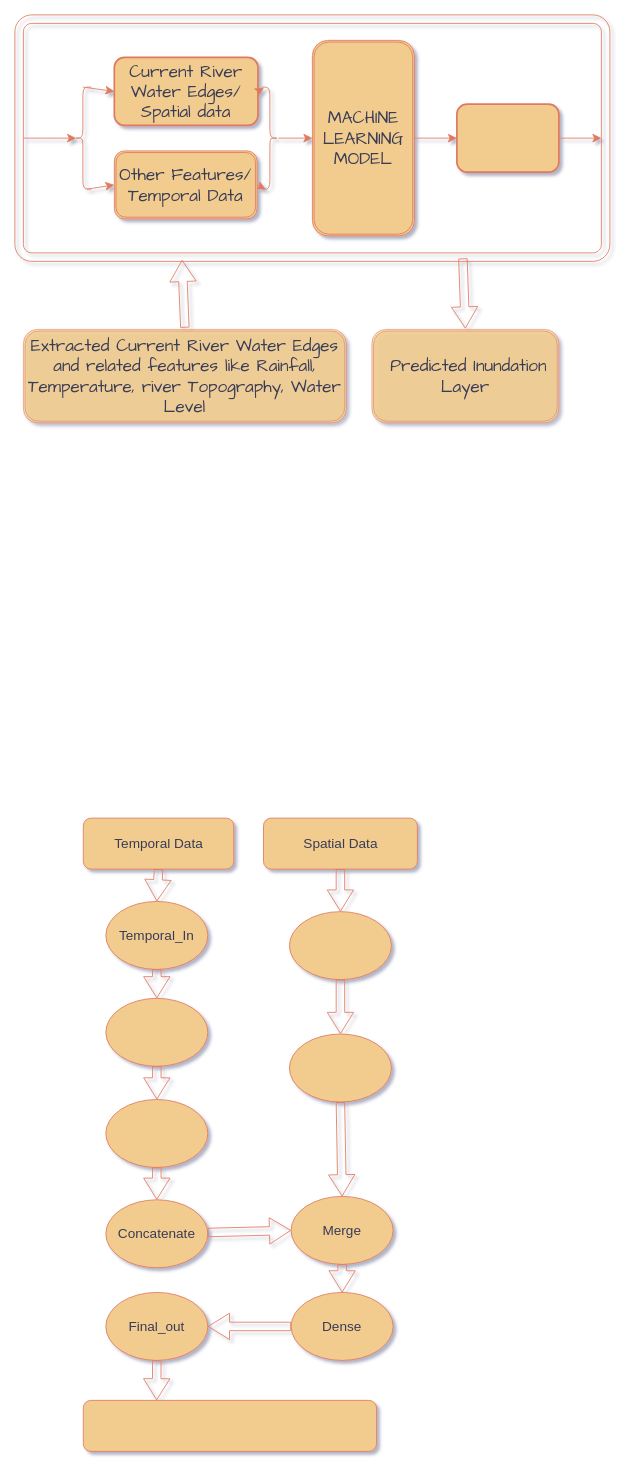
Some shapes in this 630 by 1471 pixel diagram are drawn without their labels. The centre of each missing label's shape, as x and y in pixels:
"Predicted River Water Edges" goes at (507,138).
"Reshape" goes at (156,1133).
"Spatial_data(Inundation)" goes at (229,1425).
"Spatial_In" goes at (340,945).
"Spatial_out" goes at (340,1067).
"Temporal_out" goes at (156,1031).
